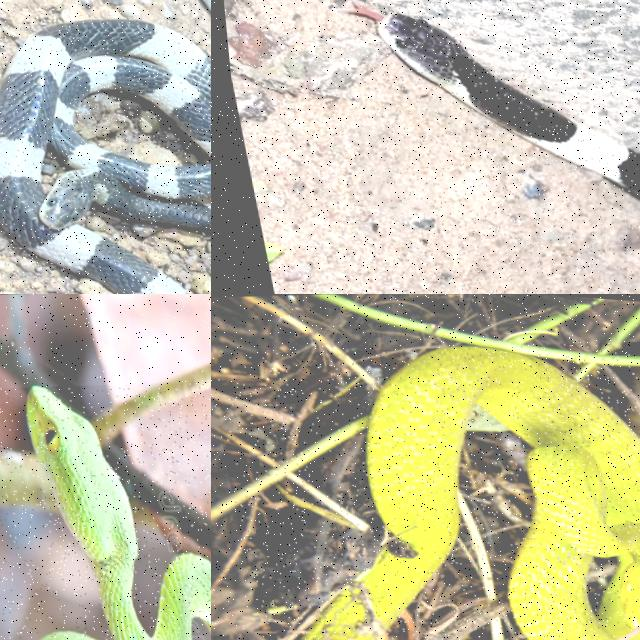Bungarus candidus: (0, 19, 210, 293), (353, 3, 639, 199)
Trimeresurus: (361, 347, 639, 639), (27, 388, 210, 639)
snake: (361, 347, 639, 639), (0, 19, 210, 293), (353, 3, 639, 199), (27, 388, 210, 639)
